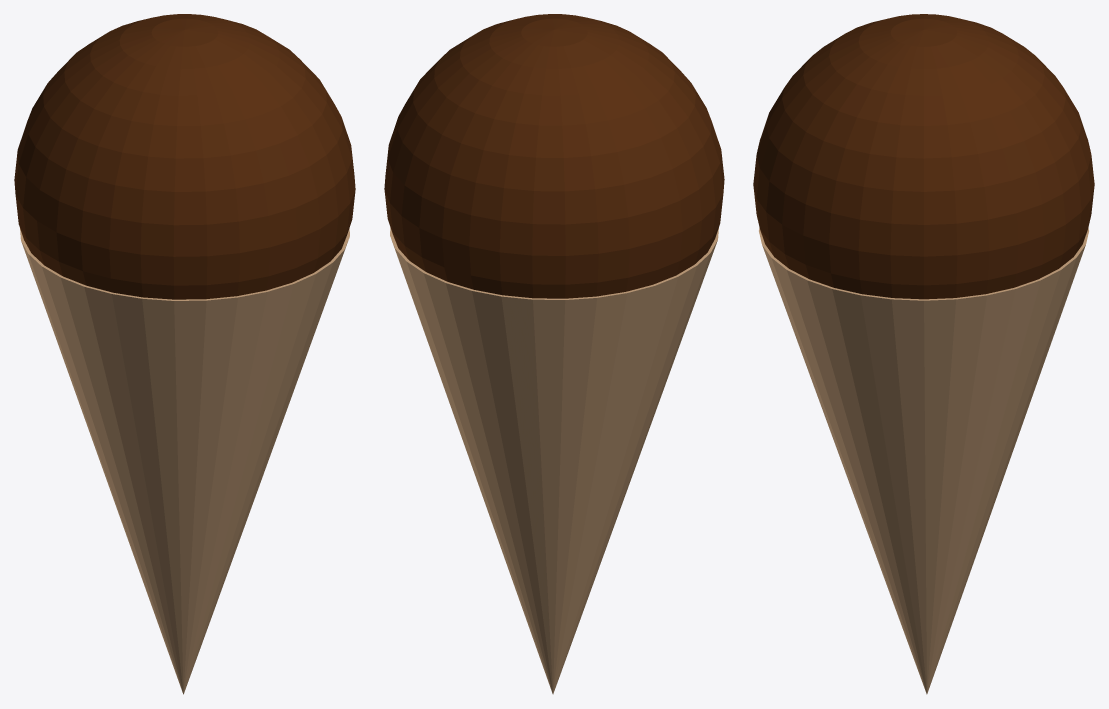
The model's file is Icecream.dae.
3 views of the same model, side by side, from view 1: azimuth 30°, elevation 25°; view 2: azimuth 150°, elevation 25°; view 3: azimuth 270°, elevation 25° (orthographic).
Parts seen in each view (by area): view 1: Sphere, Cone; view 2: Sphere, Cone; view 3: Sphere, Cone.
Part boxes in pixels (x1=…): Sphere: x1=14, y1=14, x2=355, y2=299; Cone: x1=20, y1=228, x2=349, y2=694; Sphere: x1=384, y1=14, x2=724, y2=298; Cone: x1=390, y1=227, x2=718, y2=694; Sphere: x1=753, y1=14, x2=1094, y2=299; Cone: x1=759, y1=228, x2=1088, y2=694.
Bounding box in the file's own units: 0.2 × 0.2 × 0.43.
